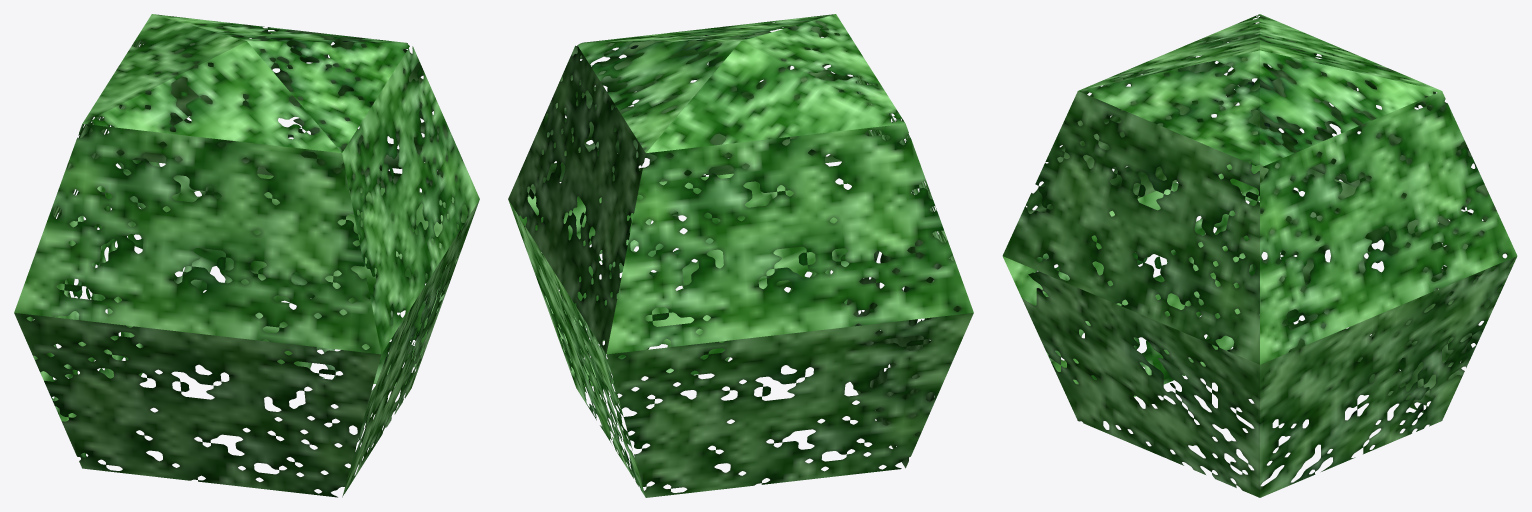
The model's file is bush_end_spring.fbx.
3 renders of one model, left to right at view 1: azimuth 30°, elevation 25°; view 2: azimuth 150°, elevation 25°; view 3: azimuth 270°, elevation 25°, orthographic. The views are drawn at different scales.
Parts seen in each view (by area): view 1: bush_end_spring; view 2: bush_end_spring; view 3: bush_end_spring.
Part boxes in pixels (x1,y1,x2,y2): bush_end_spring: (14, 14, 479, 497); bush_end_spring: (508, 14, 973, 497); bush_end_spring: (1002, 14, 1517, 497).
Size of the model in its own units: 139 by 110 by 139.
Materials: 1 (1 with a texture image).
